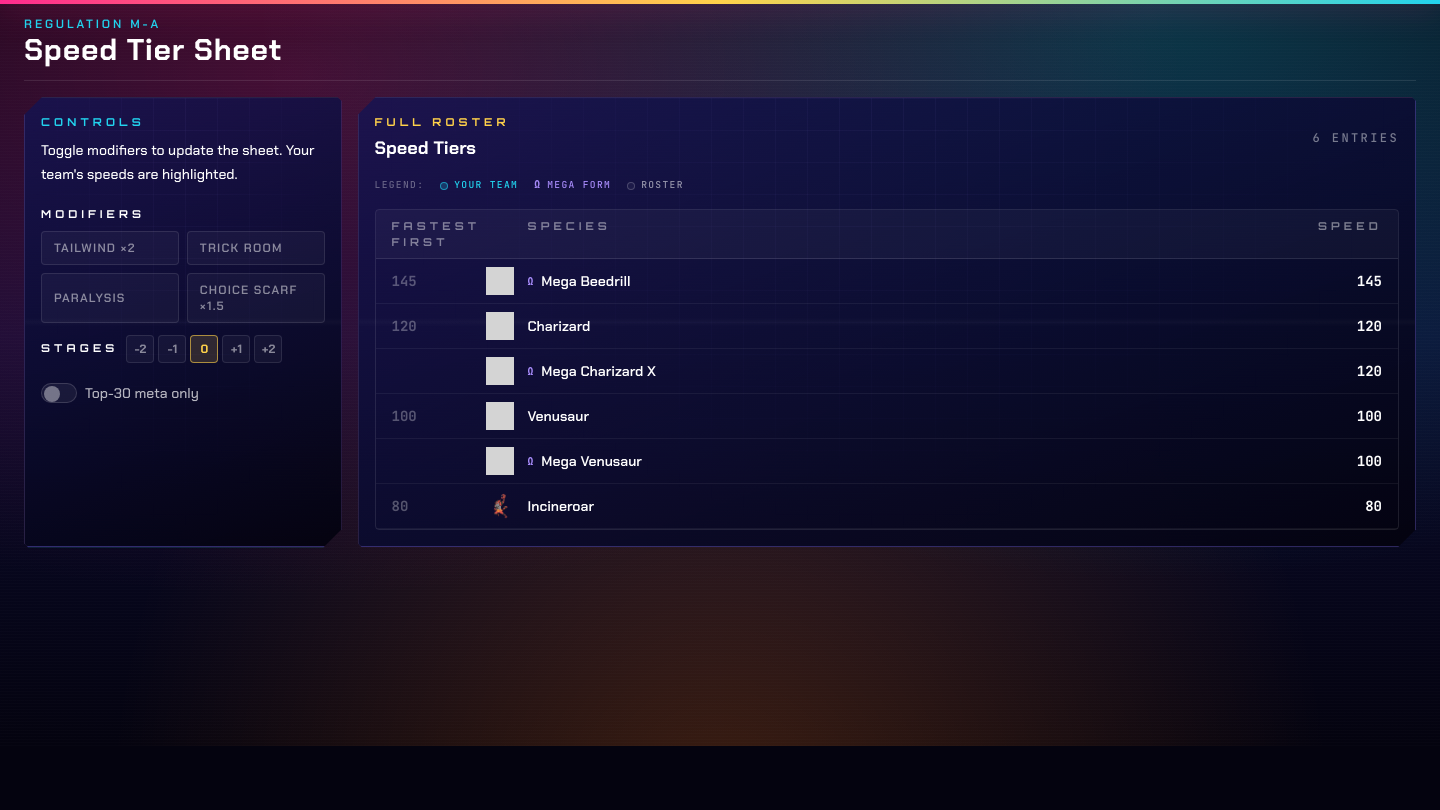
Test: SpeedTierPage — meta-only filter with mega rows › keeps mega rows of meta species visible when metaOnly is toggled on
The image size is (1440, 810).
Expected: the text "Mega Venusaur" is shown, [541, 451, 642, 471]
Click the switch named "top-30 meta only": (59, 393) [41, 383, 77, 403]
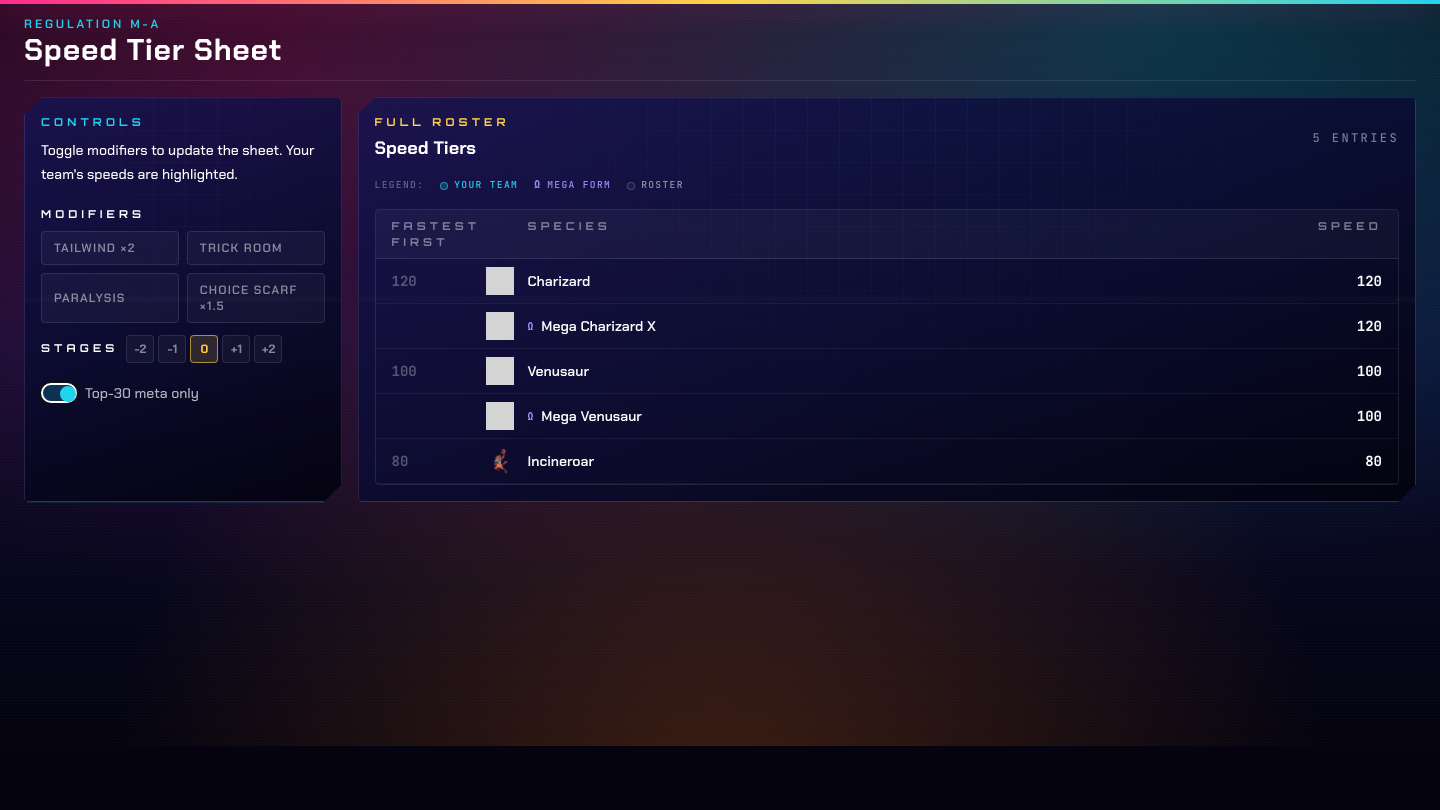
Expected: the text "Mega Venusaur" is shown, [541, 406, 642, 426]
Expected: the text "Mega Beedrill" is gone
